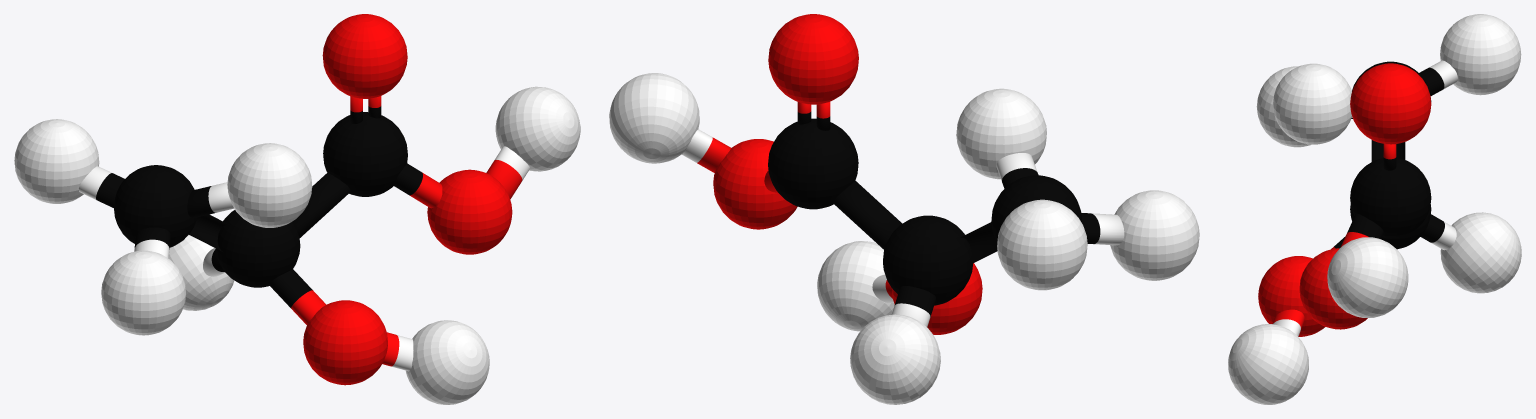
The model's file is Acidelactique.fbx.
3 renders of one model, left to right at view 1: azimuth 30°, elevation 25°; view 2: azimuth 150°, elevation 25°; view 3: azimuth 270°, elevation 25°, orthographic. The views are drawn at different scales.
Parts seen in each view (by area): view 1: Acidelactique; view 2: Acidelactique; view 3: Acidelactique.
Part boxes in pixels (bbox=[...]): Acidelactique: bbox=[14, 14, 580, 404]; Acidelactique: bbox=[609, 14, 1199, 404]; Acidelactique: bbox=[1228, 14, 1521, 404].
Size of the model in its own units: 274 by 177 by 145.
